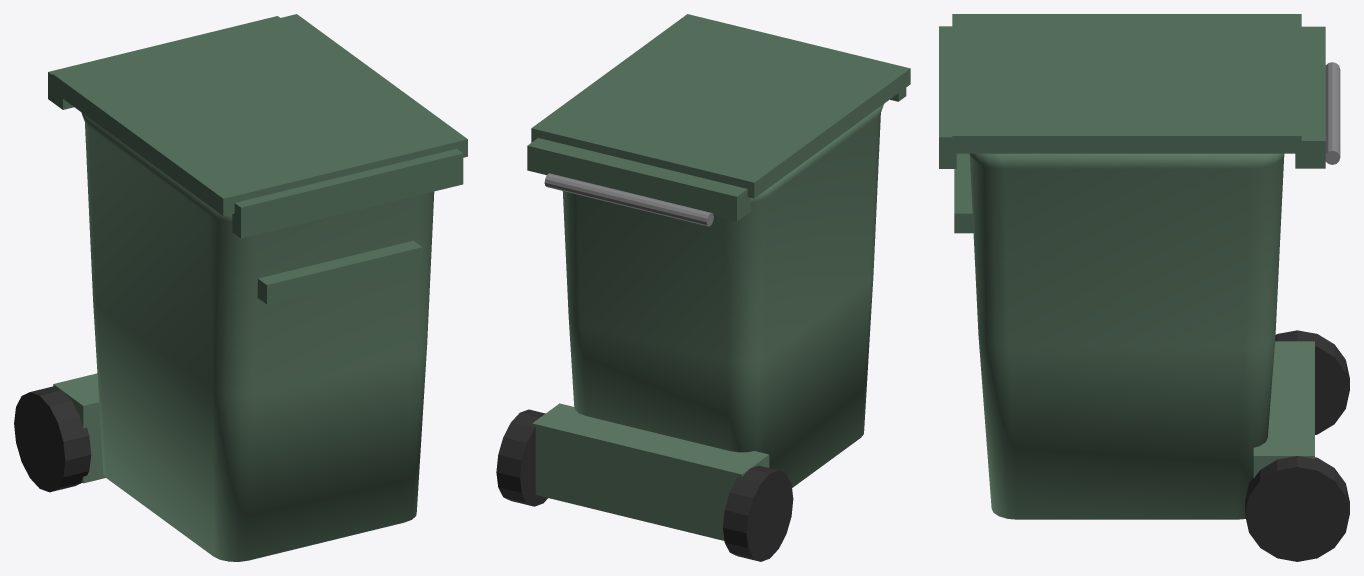
Rendered from yard_toter.glb.
The picture shows the model from 3 angles, left to right: view 1: azimuth 30°, elevation 25°; view 2: azimuth 150°, elevation 25°; view 3: azimuth 270°, elevation 25°; orthographic projection. The views are drawn at different scales.
Visible parts, largest first — view 1: toter_body, toter_lid, toter_lid_lip, toter_wheel-1, toter_bar, toter_wheelwell, toter_hinge; view 2: toter_body, toter_lid, toter_wheelwell, toter_hinge, toter_wheel-1, toter_wheel1, toter_handle; view 3: toter_body, toter_lid, toter_wheel1, toter_wheelwell, toter_hinge, toter_wheel-1, toter_lid_lip, toter_handle, toter_bar.
Boxes of the visible parts, x1,y1,x2,y2 form: toter_body: [81, 112, 434, 561]; toter_lid: [52, 14, 467, 216]; toter_lid_lip: [232, 148, 463, 238]; toter_wheel-1: [14, 386, 91, 492]; toter_bar: [257, 240, 422, 304]; toter_wheelwell: [53, 373, 105, 483]; toter_hinge: [48, 16, 279, 109]; toter_body: [562, 104, 883, 487]; toter_lid: [531, 14, 910, 198]; toter_wheelwell: [532, 403, 769, 540]; toter_hinge: [527, 138, 750, 221]; toter_wheel-1: [723, 465, 793, 561]; toter_wheel1: [496, 409, 547, 506]; toter_handle: [544, 173, 713, 226]; toter_body: [969, 153, 1284, 519]; toter_lid: [952, 14, 1301, 153]; toter_wheel1: [1245, 456, 1349, 561]; toter_wheelwell: [1253, 341, 1314, 478]; toter_hinge: [1295, 26, 1325, 168]; toter_wheel-1: [1275, 330, 1349, 434]; toter_lid_lip: [939, 26, 956, 168]; toter_handle: [1325, 62, 1340, 164]; toter_bar: [954, 153, 973, 233].
Bounding box in the file's own units: 0.74 × 1.06 × 0.94.
